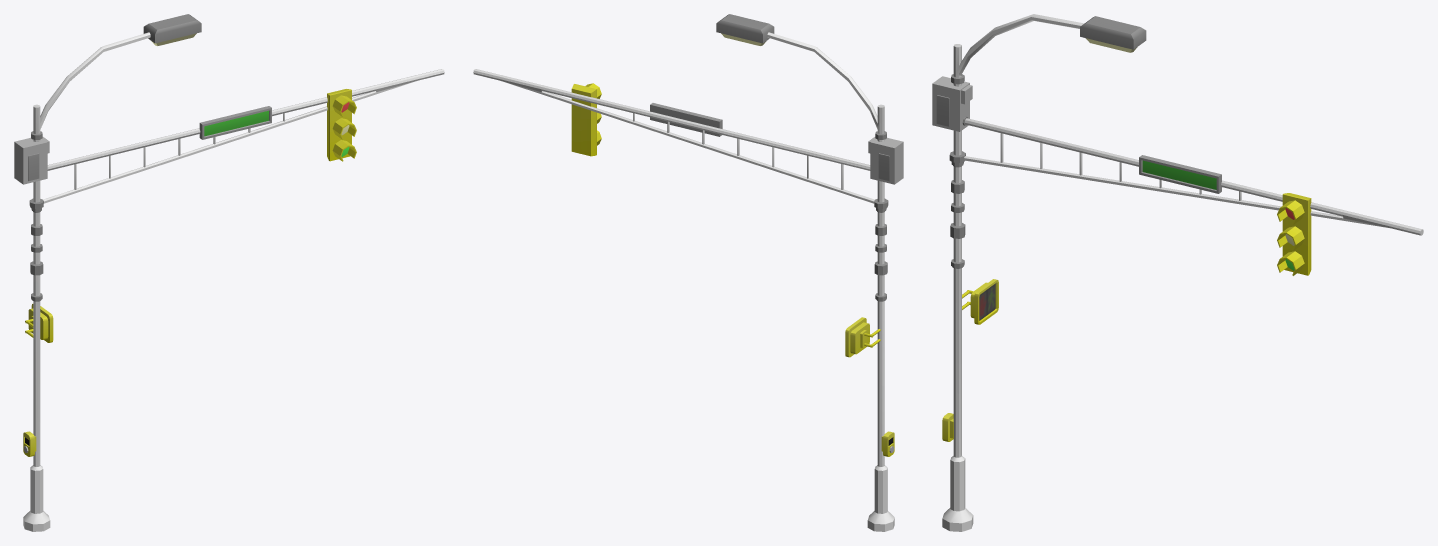
Rendered from frafficLight.fbx.
The picture shows the model from 3 angles, left to right: view 1: azimuth 30°, elevation 25°; view 2: azimuth 150°, elevation 25°; view 3: azimuth 330°, elevation 25°; orthographic projection. The views are drawn at different scales.
Visible parts, largest first — view 1: trafficLight, railing, meterBox, greenSign, lightBox, sign; view 2: trafficLight, railing, lightBox, meterBox, greenSign, sign; view 3: trafficLight, railing, meterBox, greenSign, lightBox, sign.
Part boxes in pixels (left/top/right/bottom): trafficLight: left=23, top=14, right=201, bottom=531; railing: left=43, top=69, right=444, bottom=203; meterBox: left=14, top=137, right=49, bottom=184; greenSign: left=199, top=106, right=271, bottom=139; lightBox: left=327, top=89, right=351, bottom=161; sign: left=28, top=304, right=53, bottom=342; trafficLight: left=716, top=14, right=894, bottom=531; railing: left=473, top=69, right=874, bottom=203; lightBox: left=571, top=84, right=596, bottom=156; meterBox: left=868, top=137, right=903, bottom=184; greenSign: left=650, top=103, right=722, bottom=136; sign: left=845, top=317, right=869, bottom=357; trafficLight: left=942, top=14, right=1146, bottom=531; railing: left=962, top=116, right=1423, bottom=235; meterBox: left=932, top=76, right=972, bottom=131; greenSign: left=1139, top=155, right=1221, bottom=193; lightBox: left=1282, top=193, right=1311, bottom=275; sign: left=970, top=279, right=998, bottom=324.
Size of the model in its own units: 439 by 465 by 55.34.
Materials: 2 (2 with a texture image).
